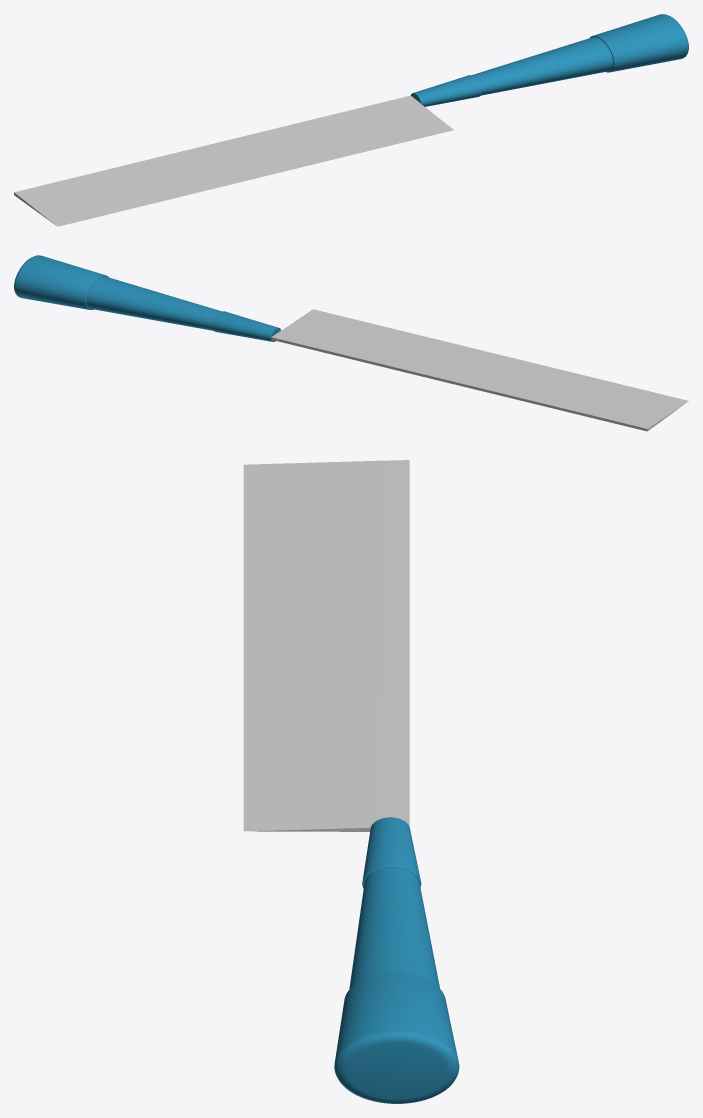
Rendered from 削土刀.fbx.
3 views of the same model, one above another, from view 1: azimuth 30°, elevation 25°; view 2: azimuth 150°, elevation 25°; view 3: azimuth 270°, elevation 25° (orthographic). The views are drawn at different scales.
Parts seen in each view (by area): view 1: 立方体, 圆柱体; view 2: 立方体, 圆柱体; view 3: 立方体, 圆柱体.
Boxes of the visible parts, <box> form: 立方体: <box>14,95,453,226</box>; 圆柱体: <box>411,14,688,106</box>; 立方体: <box>271,309,688,431</box>; 圆柱体: <box>14,255,280,341</box>; 立方体: <box>243,460,409,831</box>; 圆柱体: <box>334,817,459,1103</box>.
Bounding box in the file's own units: 182 × 10.05 × 27.22.
